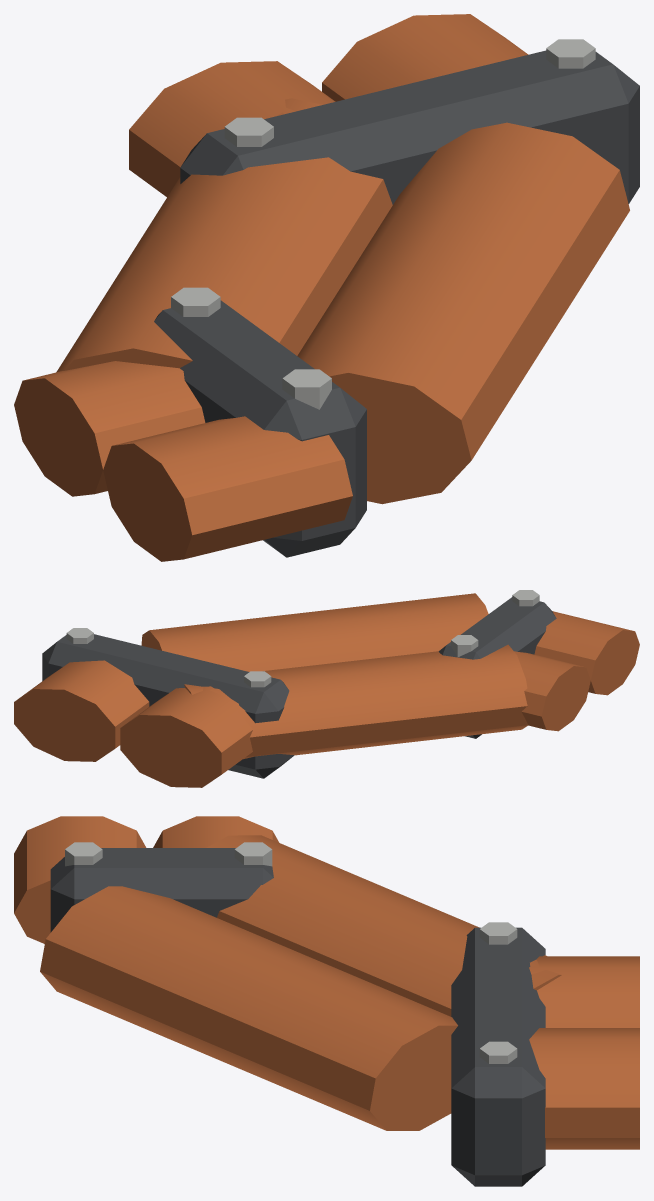
File: heat-pipe-corner-up-left.glb
3 renders of one model, top to bottom at view 1: azimuth 30°, elevation 25°; view 2: azimuth 150°, elevation 25°; view 3: azimuth 270°, elevation 25°, orthographic. The views are drawn at different scales.
Visible parts, largest first — view 1: body; view 2: body; view 3: body.
Boxes of the visible parts, box(x1,y1,x2,y2) form: body: box(14, 14, 639, 561); body: box(14, 590, 639, 787); body: box(14, 816, 639, 1186).
Size of the model in its own units: 0.7 by 0.15 by 0.664.
